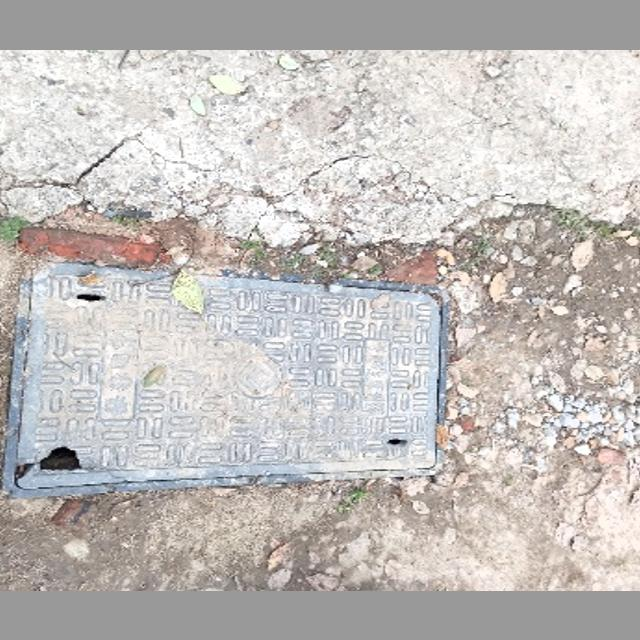broke: (0, 260, 450, 496)
